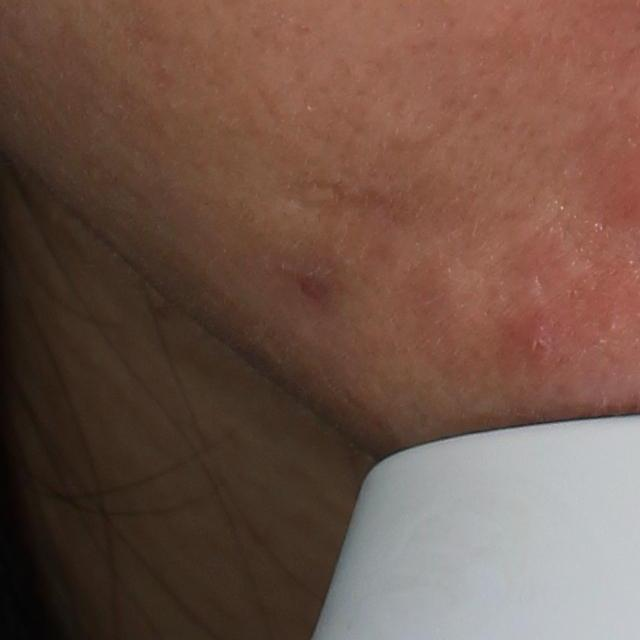papule: (507, 306, 560, 363)
